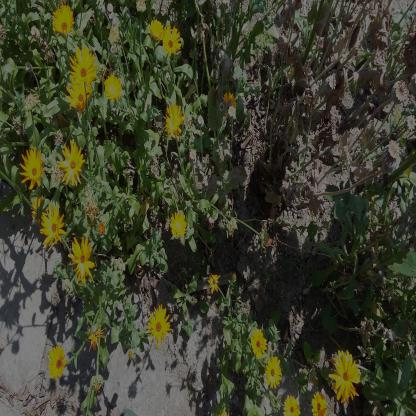marigold: (331, 349, 361, 406), (57, 138, 86, 188), (69, 233, 95, 286), (68, 45, 98, 87), (148, 302, 172, 351), (40, 202, 67, 245), (20, 146, 44, 190), (65, 77, 92, 116), (164, 104, 186, 140), (48, 342, 68, 380), (52, 4, 75, 36), (264, 354, 283, 390), (102, 72, 122, 102), (163, 24, 181, 57), (170, 209, 187, 241), (250, 325, 266, 358), (310, 391, 328, 416), (282, 394, 300, 416), (223, 90, 238, 116), (149, 18, 164, 42), (206, 272, 221, 293)
